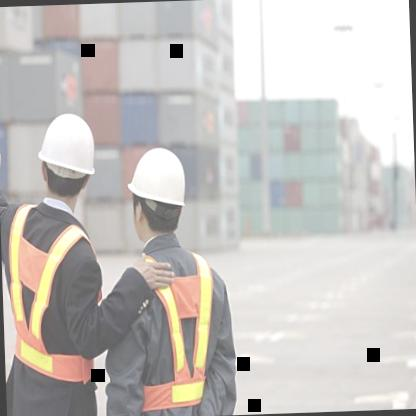helmet: (29, 104, 106, 220), (121, 136, 192, 256)
